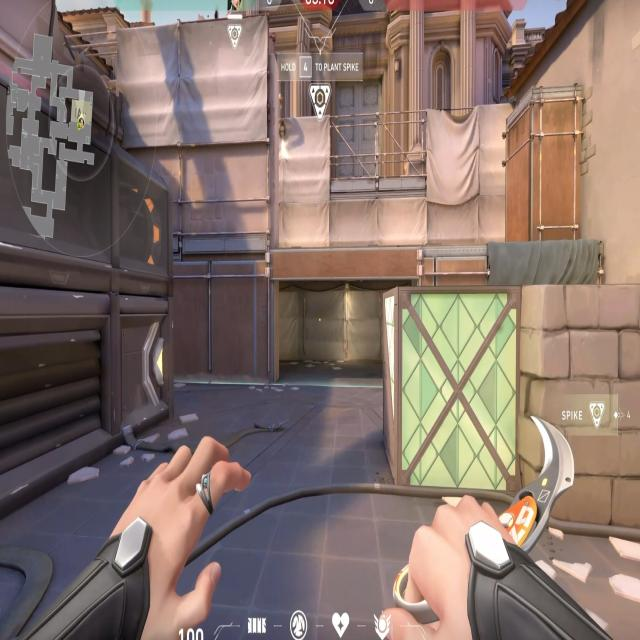A_Heaven_Box: (499, 83, 589, 250)
A_Heaven_Wall: (70, 13, 289, 269)
A_Hell: (264, 236, 440, 398)
A_Site_Box: (376, 260, 640, 538)
